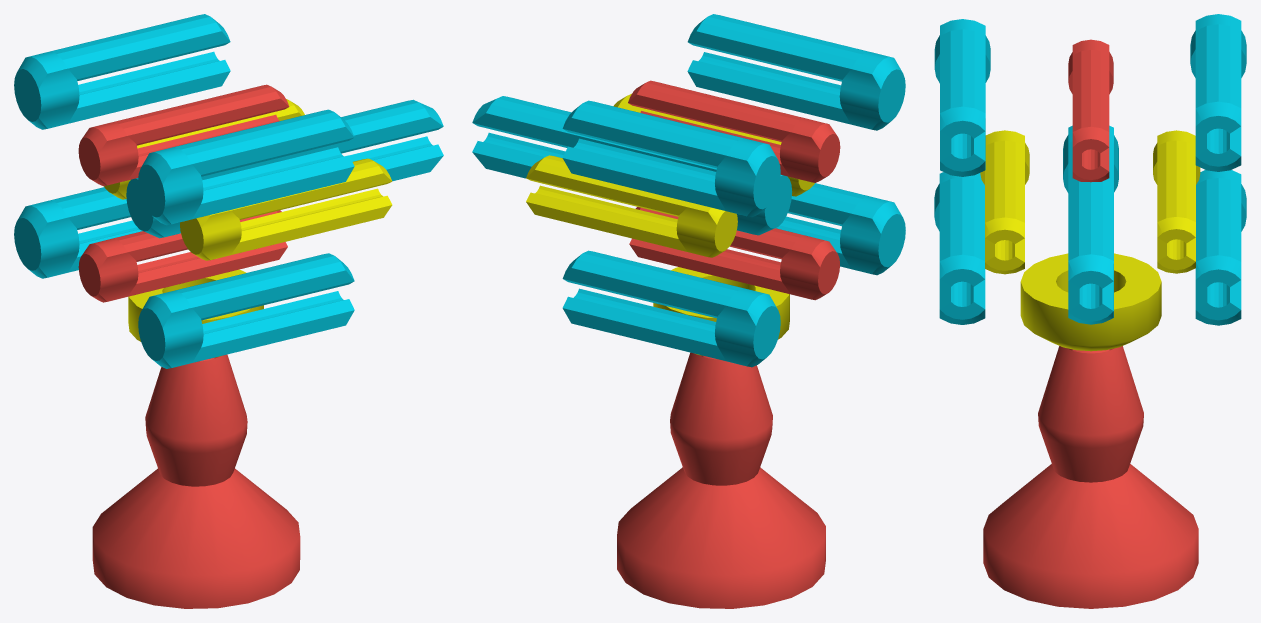
File: tower2.fbx
3 renders of one model, left to right at view 1: azimuth 30°, elevation 25°; view 2: azimuth 150°, elevation 25°; view 3: azimuth 270°, elevation 25°, orthographic. The views are drawn at different scales.
Parts seen in each view (by area): view 1: pCylinder1, pCylinder8, pCylinder10, pCylinder4, pCylinder5, pCylinder9, pCylinder2, pCylinder6, pCylinder3, pPipe1, pCylinder7; view 2: pCylinder1, pCylinder10, pCylinder8, pCylinder3, pCylinder7, pCylinder9, pCylinder2, pCylinder6, pCylinder4, pPipe1, pCylinder5; view 3: pCylinder1, pPipe1, pCylinder10, pCylinder6, pCylinder8, pCylinder3, pCylinder4, pCylinder5, pCylinder7, pCylinder9.
Part boxes in pixels (bbox=[...]): pCylinder1: bbox=[92, 354, 300, 608]; pCylinder8: bbox=[138, 109, 354, 225]; pCylinder10: bbox=[14, 14, 230, 129]; pCylinder4: bbox=[138, 253, 354, 368]; pCylinder5: bbox=[180, 158, 392, 260]; pCylinder9: bbox=[78, 84, 289, 186]; pCylinder2: bbox=[78, 210, 287, 302]; pCylinder6: bbox=[126, 99, 443, 238]; pCylinder3: bbox=[14, 187, 142, 278]; pPipe1: bbox=[128, 269, 263, 357]; pCylinder7: bbox=[104, 99, 304, 199]; pCylinder1: bbox=[617, 352, 825, 608]; pCylinder10: bbox=[562, 100, 780, 217]; pCylinder8: bbox=[687, 14, 905, 130]; pCylinder3: bbox=[562, 250, 780, 367]; pCylinder7: bbox=[526, 155, 737, 257]; pCylinder9: bbox=[628, 80, 840, 182]; pCylinder2: bbox=[629, 207, 839, 300]; pCylinder6: bbox=[472, 96, 792, 235]; pCylinder4: bbox=[775, 183, 905, 275]; pPipe1: bbox=[653, 267, 789, 355]; pCylinder5: bbox=[613, 93, 814, 196]; pCylinder1: bbox=[983, 346, 1198, 608]; pPipe1: bbox=[1020, 253, 1161, 351]; pCylinder10: bbox=[1190, 14, 1246, 171]; pCylinder6: bbox=[1063, 125, 1118, 324]; pCylinder8: bbox=[934, 19, 990, 176]; pCylinder3: bbox=[1195, 170, 1246, 325]; pCylinder4: bbox=[934, 172, 985, 324]; pCylinder5: bbox=[980, 130, 1029, 274]; pCylinder7: bbox=[1153, 130, 1200, 273]; pCylinder9: bbox=[1068, 39, 1113, 182].
Size of the model in its own units: 9.58 by 12.92 by 7.31.
